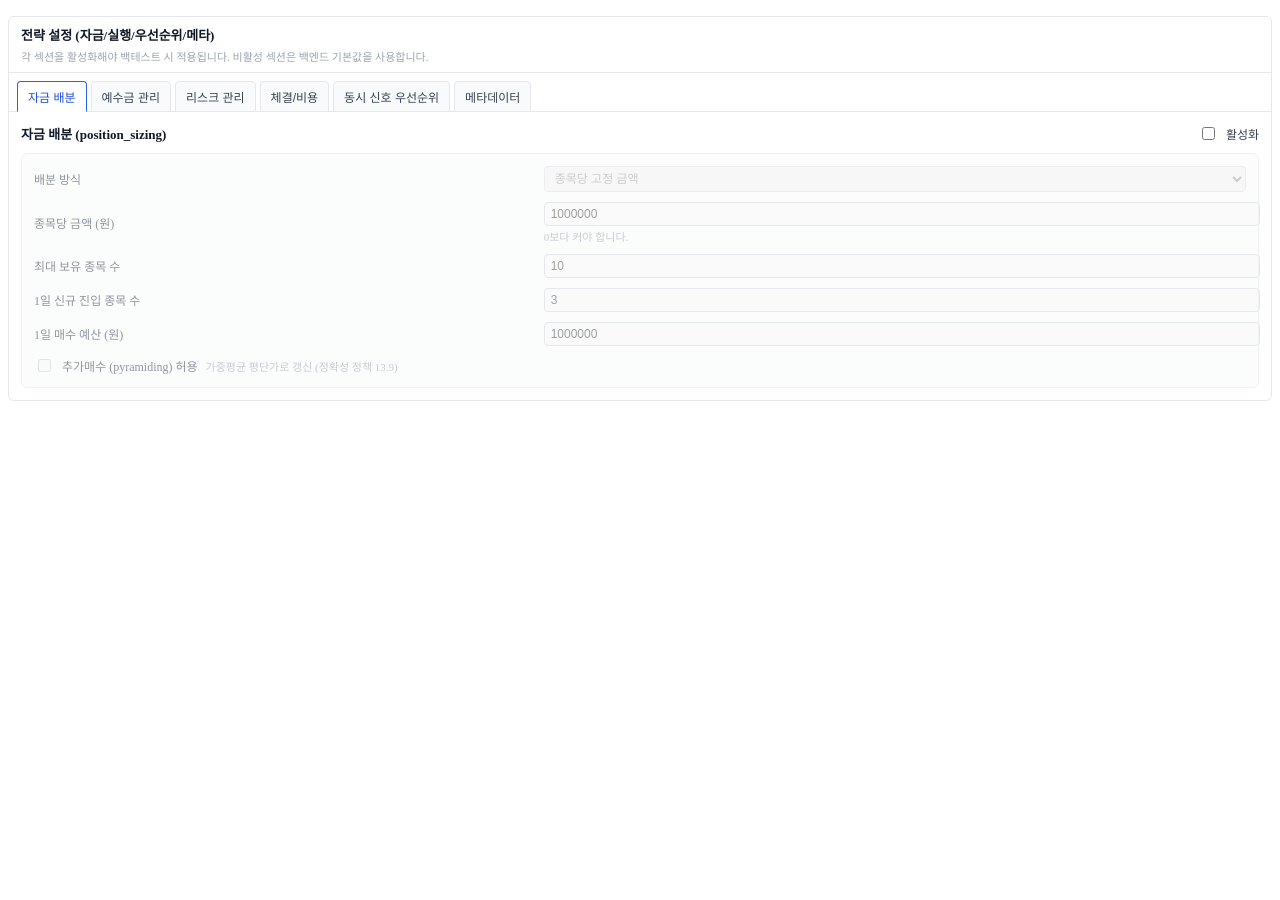
Test: StrategyConfigPanel — 탭 전환 › 탭 클릭 → 해당 폼으로 전환
Click the tab "체결/비용".
click(294, 96)  # box [260, 81, 329, 112]
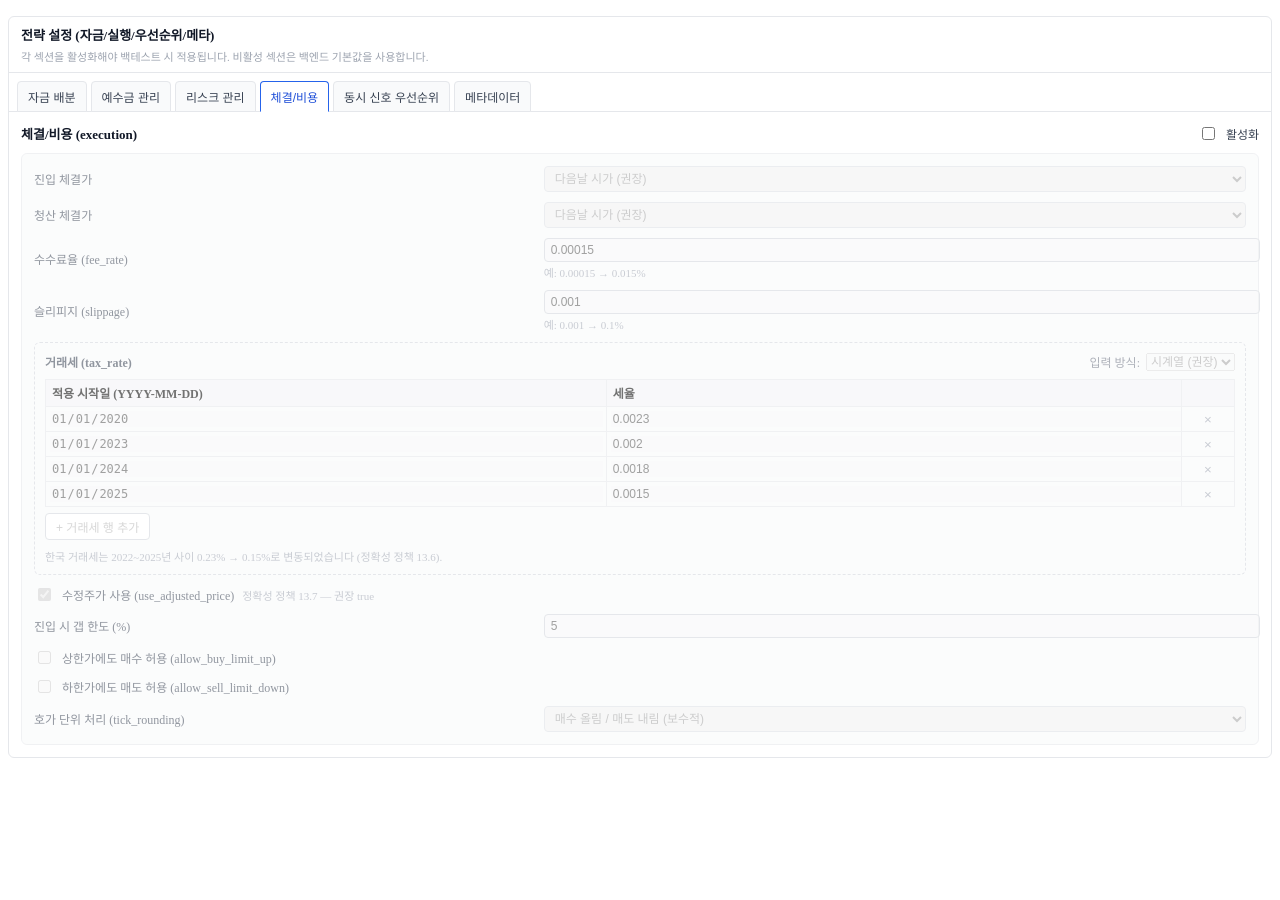
Now the heading "체결/비용 (execution)" is shown, box [21, 124, 137, 143]
